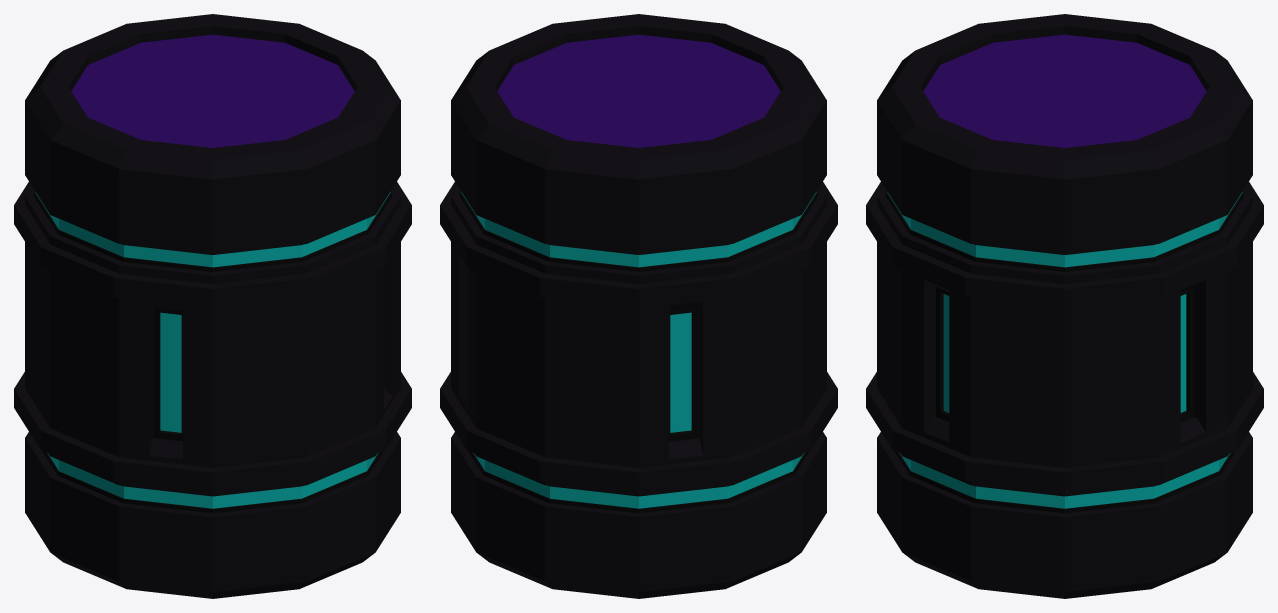
Rendered from SM_Industrial_Barrel.obj.
The picture shows the model from 3 angles, left to right: view 1: azimuth 30°, elevation 25°; view 2: azimuth 150°, elevation 25°; view 3: azimuth 270°, elevation 25°; orthographic projection.
Visible parts, largest first — view 1: SM_Industrial_Barrel; view 2: SM_Industrial_Barrel; view 3: SM_Industrial_Barrel.
Part boxes in pixels (bbox=[...]): SM_Industrial_Barrel: bbox=[14, 14, 411, 598]; SM_Industrial_Barrel: bbox=[440, 14, 837, 598]; SM_Industrial_Barrel: bbox=[866, 14, 1263, 598].
Size of the model in its own units: 0.6289 by 0.7658 by 0.6289.
